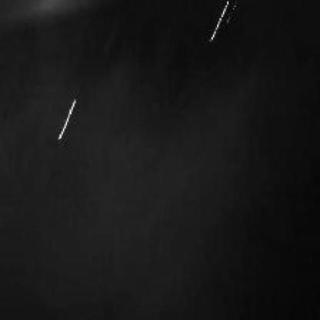other: (54, 92, 90, 152)
